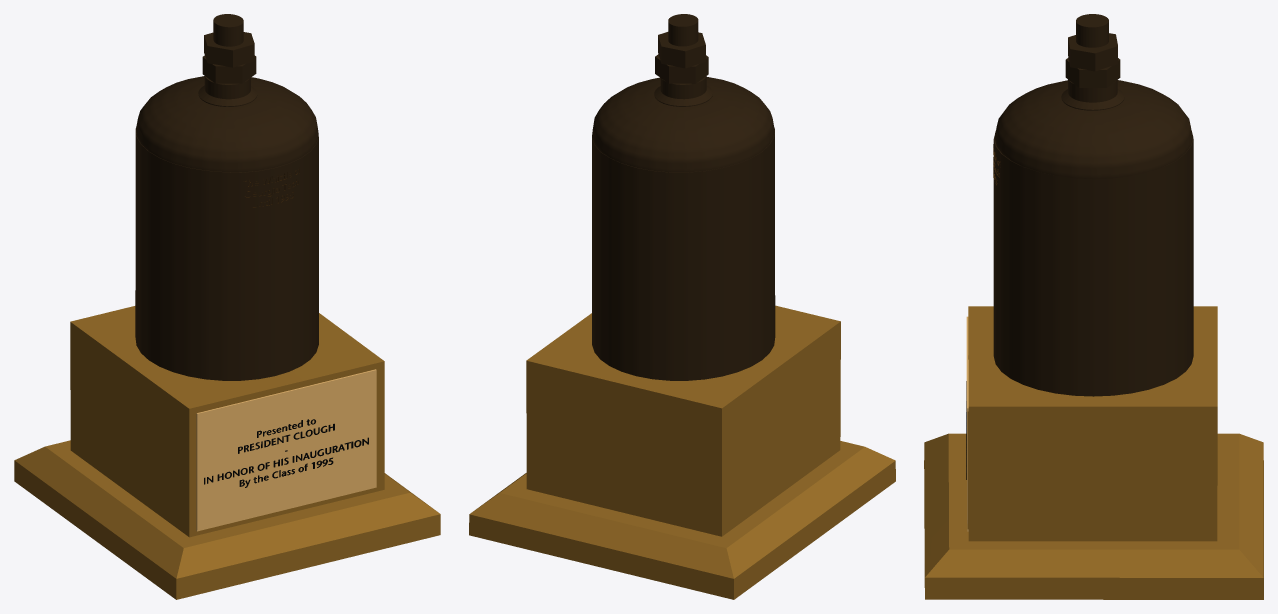
Rendered from Whistle.fbx.
3 renders of one model, left to right at view 1: azimuth 30°, elevation 25°; view 2: azimuth 150°, elevation 25°; view 3: azimuth 270°, elevation 25°, orthographic. The views are drawn at different scales.
Parts seen in each view (by area): view 1: Cube.001, Cube.002, Text.001, Cylinder, Cylinder.001; view 2: Cube.001, Cylinder, Cylinder.001; view 3: Cube.001, Cylinder, Cylinder.001.
Boxes of the visible parts, x1,y1,x2,y2 form: Cube.001: (14, 14, 440, 599); Cube.002: (196, 369, 376, 531); Text.001: (204, 419, 368, 487); Cylinder: (204, 32, 254, 67); Cylinder.001: (202, 55, 256, 83); Cube.001: (469, 14, 895, 599); Cylinder: (658, 32, 705, 68); Cylinder.001: (655, 54, 708, 83); Cube.001: (924, 14, 1263, 599); Cylinder: (1068, 33, 1117, 71); Cylinder.001: (1065, 57, 1120, 87).
Size of the model in its own units: 164 by 288 by 173.
